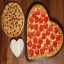pepperoni: (33, 37, 45, 54), (43, 25, 56, 39), (34, 23, 43, 37), (35, 16, 48, 23)
pizza: (24, 5, 61, 63), (1, 2, 26, 35)
